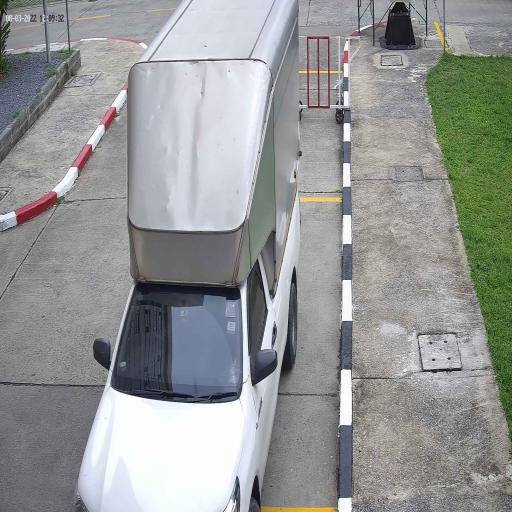car: (73, 0, 303, 512)
